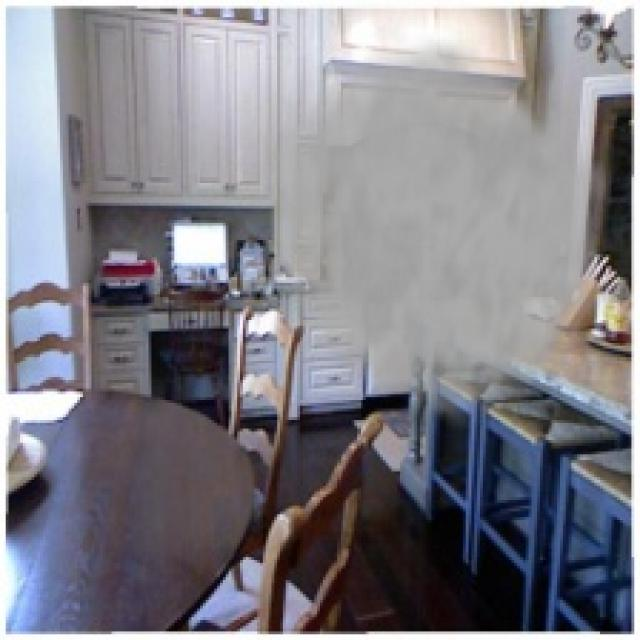smoke: (263, 26, 611, 437)
